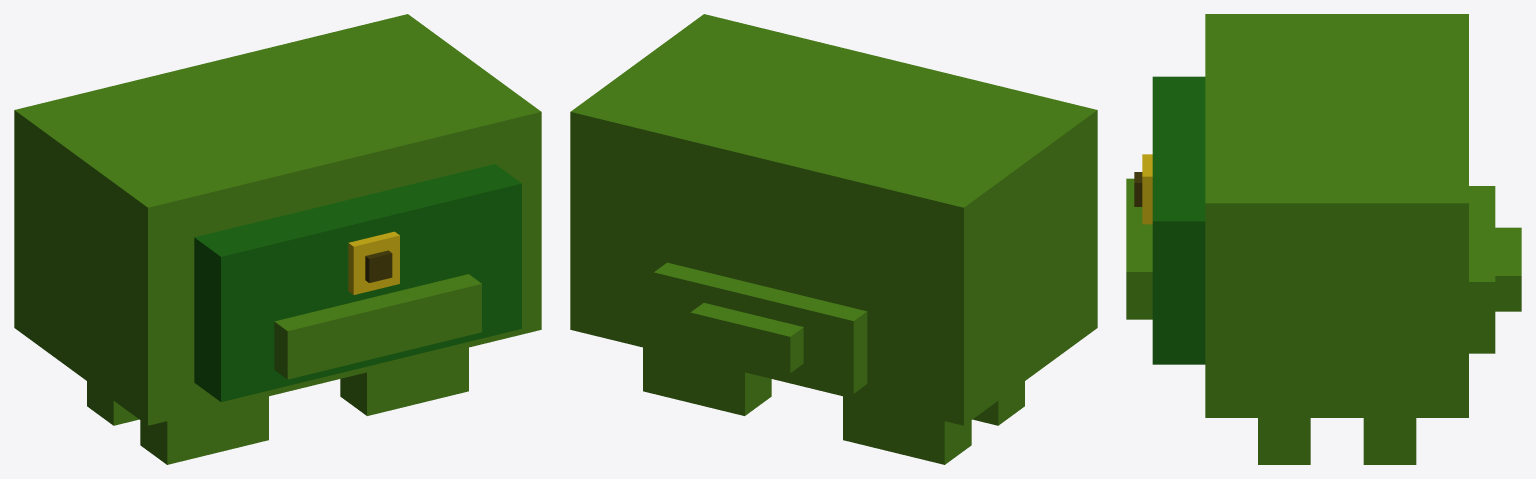
Rendered from AlianBeast.fbx.
The picture shows the model from 3 angles, left to right: view 1: azimuth 30°, elevation 25°; view 2: azimuth 150°, elevation 25°; view 3: azimuth 270°, elevation 25°; orthographic projection.
Visible parts, largest first — view 1: Cube.001, Cube.006, Cube.007, Cube.003, Cube.002, Cube.010, Cube.004, Cube.011; view 2: Cube.001, Cube.008, Cube.009, Cube.004, Cube.005, Cube.003; view 3: Cube.001, Cube.006, Cube.008, Cube.007, Cube.005, Cube.002, Cube.009, Cube.010.
Boxes of the visible parts, x1,y1,x2,y2 form: Cube.001: [14, 14, 541, 425]; Cube.006: [194, 164, 521, 402]; Cube.007: [274, 274, 481, 379]; Cube.003: [140, 396, 268, 464]; Cube.002: [340, 347, 468, 415]; Cube.010: [348, 231, 399, 294]; Cube.004: [87, 381, 138, 425]; Cube.011: [365, 250, 392, 282]; Cube.001: [570, 14, 1097, 425]; Cube.008: [653, 262, 867, 393]; Cube.009: [690, 303, 803, 373]; Cube.004: [843, 396, 971, 464]; Cube.005: [643, 347, 771, 415]; Cube.003: [973, 381, 1024, 425]; Cube.001: [1205, 14, 1468, 417]; Cube.006: [1152, 76, 1205, 364]; Cube.008: [1469, 186, 1495, 353]; Cube.007: [1126, 178, 1152, 319]; Cube.005: [1363, 418, 1416, 464]; Cube.002: [1258, 418, 1310, 464]; Cube.009: [1495, 227, 1521, 311]; Cube.010: [1142, 154, 1152, 224].
Size of the model in its own units: 170 by 119 by 150.
